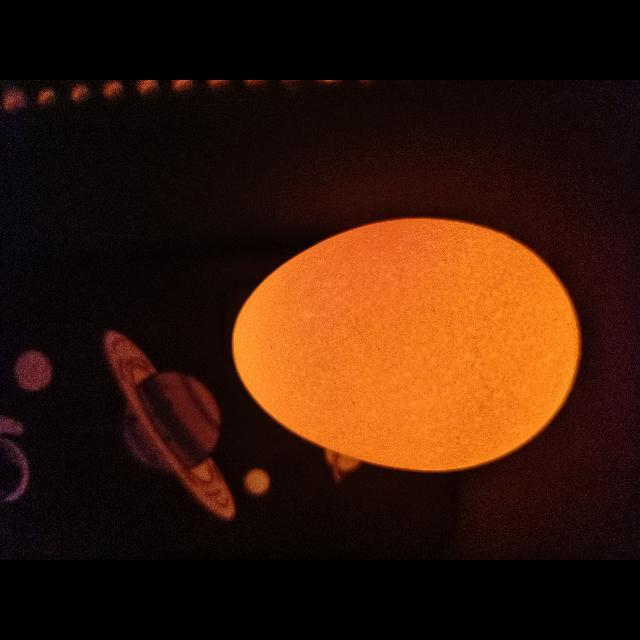AA - Premium: (233, 218, 580, 471)
